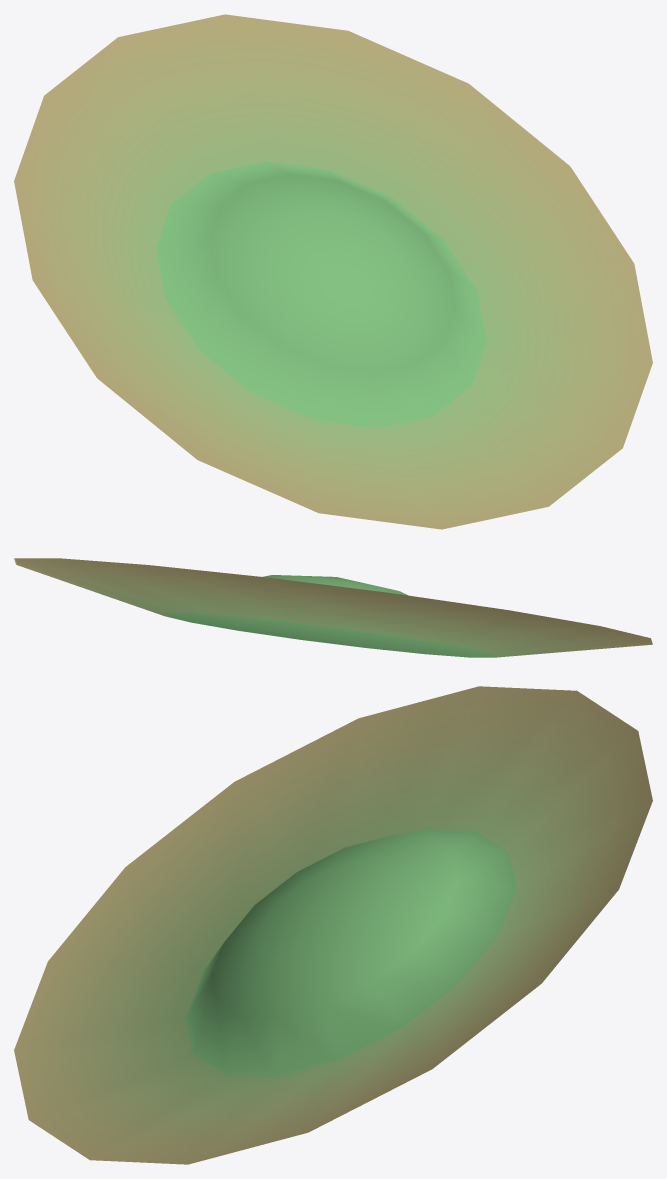
The model's file is Kue Ape 2.glb.
The picture shows the model from 3 angles, top to bottom: view 1: azimuth 30°, elevation 25°; view 2: azimuth 150°, elevation 25°; view 3: azimuth 270°, elevation 25°; orthographic projection. The views are drawn at different scales.
Parts seen in each view (by area): view 1: Kue Ape 2; view 2: Kue Ape 2; view 3: Kue Ape 2.
Boxes of the visible parts, x1,y1,x2,y2 form: Kue Ape 2: (14, 14, 652, 529); Kue Ape 2: (14, 558, 652, 657); Kue Ape 2: (14, 686, 652, 1164).
Bounding box in the file's own units: 9.47 × 4.62 × 8.52.
Materials: 1 (1 with a texture image).
